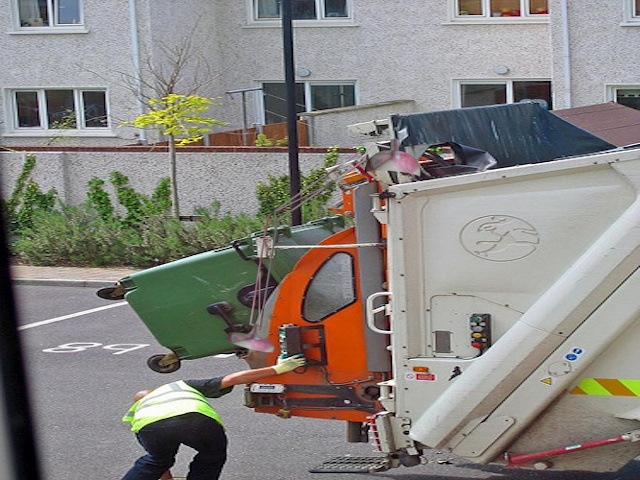desk_lamp: (224, 128, 433, 360)
